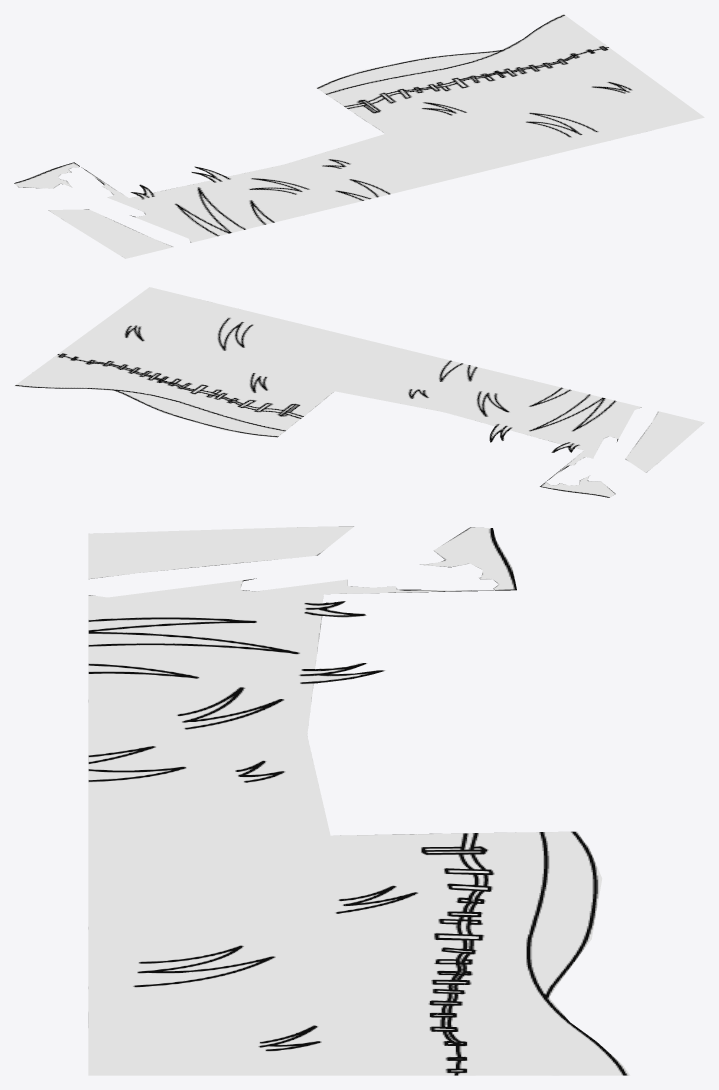
Rendered from FarmGround.fbx.
3 renders of one model, top to bottom at view 1: azimuth 30°, elevation 25°; view 2: azimuth 150°, elevation 25°; view 3: azimuth 270°, elevation 25°, orthographic. The views are drawn at different scales.
Visible parts, largest first — view 1: Plane.004; view 2: Plane.004; view 3: Plane.004.
Boxes of the visible parts, x1,y1,x2,y2 form: Plane.004: [14, 14, 704, 258]; Plane.004: [14, 287, 704, 497]; Plane.004: [88, 526, 630, 1075].
Size of the model in its own units: 677 by 4.6e-05 by 282.
